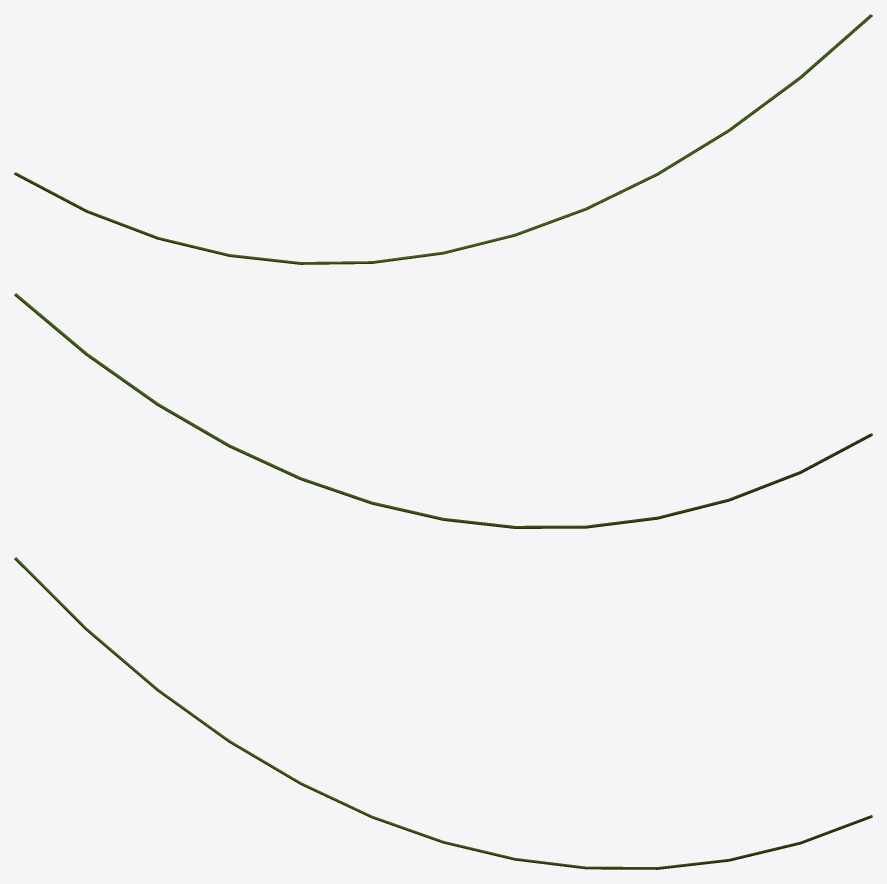
Rendered from Prop_Vegetation_Jungle_Vine_Hanging_04.FBX.
3 renders of one model, top to bottom at view 1: azimuth 30°, elevation 25°; view 2: azimuth 150°, elevation 25°; view 3: azimuth 330°, elevation 25°, orthographic. The views are drawn at different scales.
Visible parts, largest first — view 1: Prop_Vegetation_Jungle_Vine_Hanging_04; view 2: Prop_Vegetation_Jungle_Vine_Hanging_04; view 3: Prop_Vegetation_Jungle_Vine_Hanging_04.
Boxes of the visible parts, bbox=[...] form: Prop_Vegetation_Jungle_Vine_Hanging_04: bbox=[14, 14, 872, 264]; Prop_Vegetation_Jungle_Vine_Hanging_04: bbox=[14, 293, 872, 528]; Prop_Vegetation_Jungle_Vine_Hanging_04: bbox=[14, 557, 872, 869].
Bounding box in the file's own units: 22147 × 4667 × 528.
